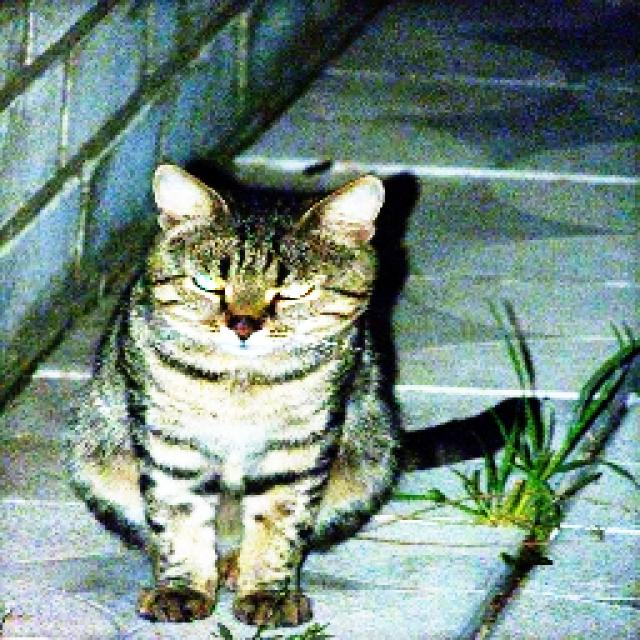cat: (70, 156, 536, 636)
